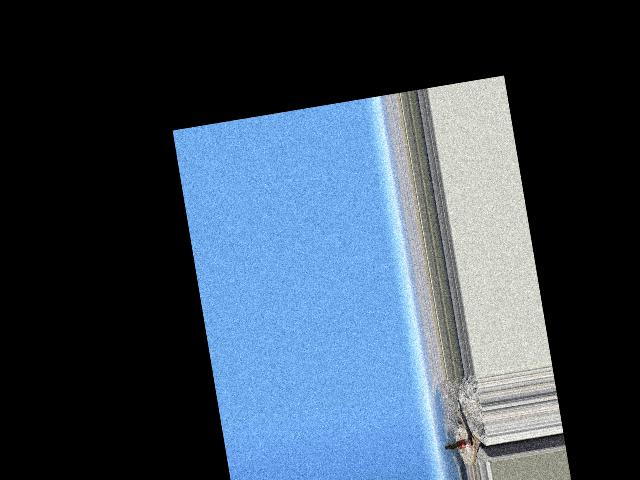beer: (444, 437, 472, 451)
